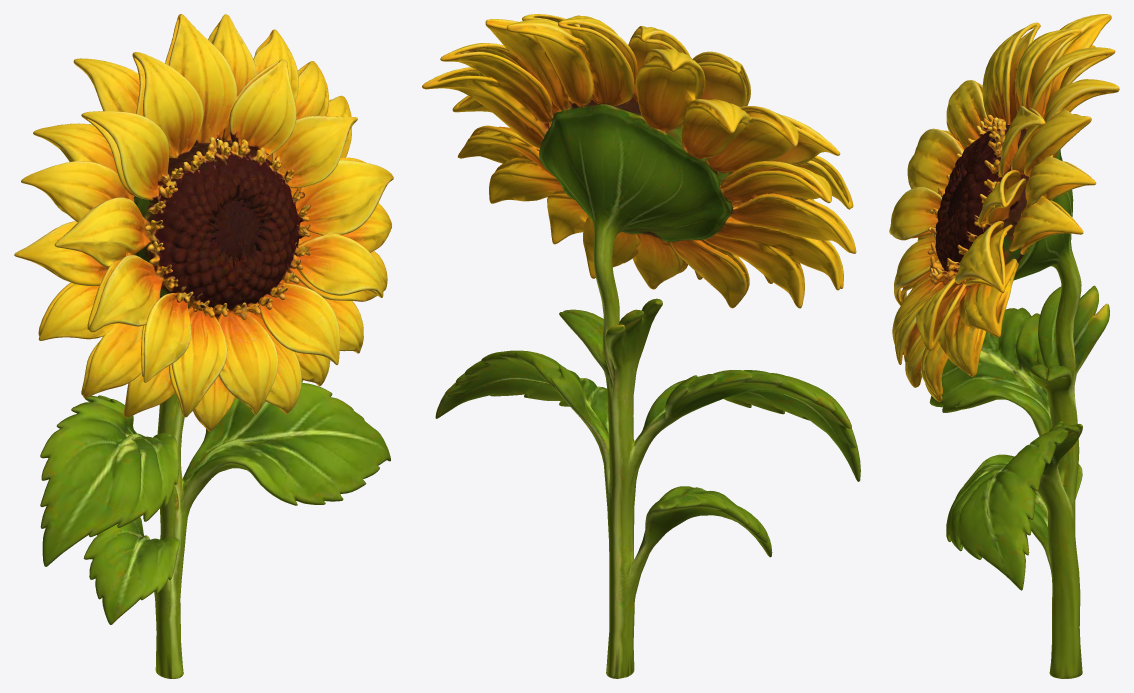
Rendered from sunflower.glb.
3 views of the same model, side by side, from view 1: azimuth 30°, elevation 25°; view 2: azimuth 150°, elevation 25°; view 3: azimuth 270°, elevation 25° (orthographic). The views are drawn at different scales.
Size of the model in its own units: 1.19 by 1.9 by 0.6188.
Materials: 1 (1 with a texture image).
